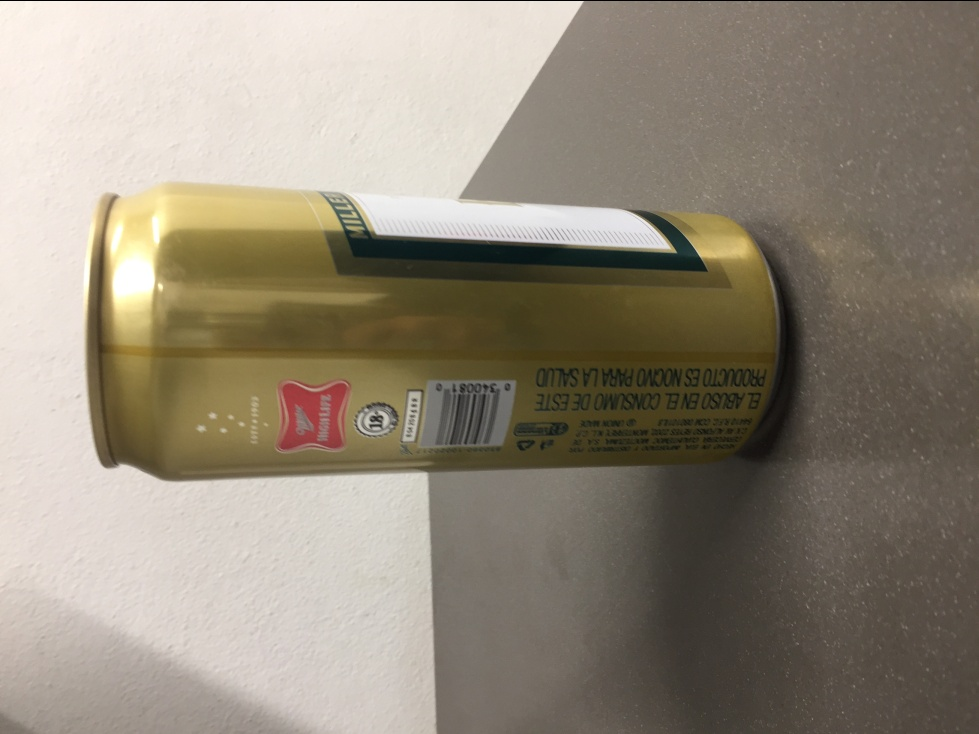miller: (78, 174, 790, 483)
